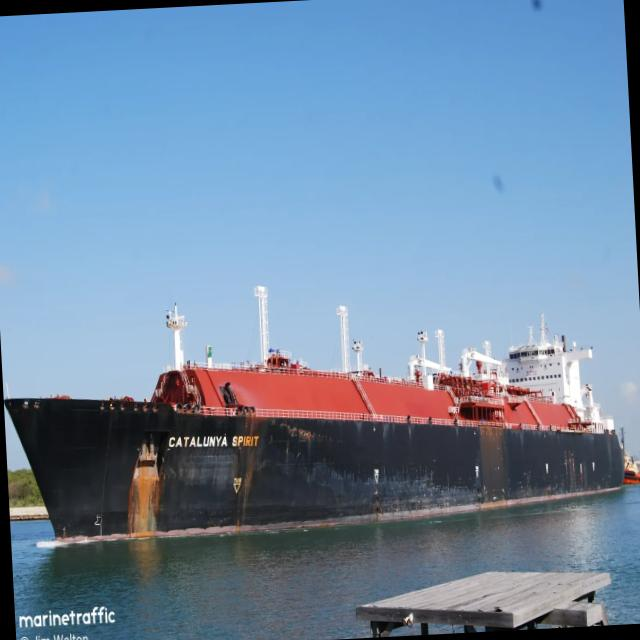Tanker: (4, 287, 627, 537)
